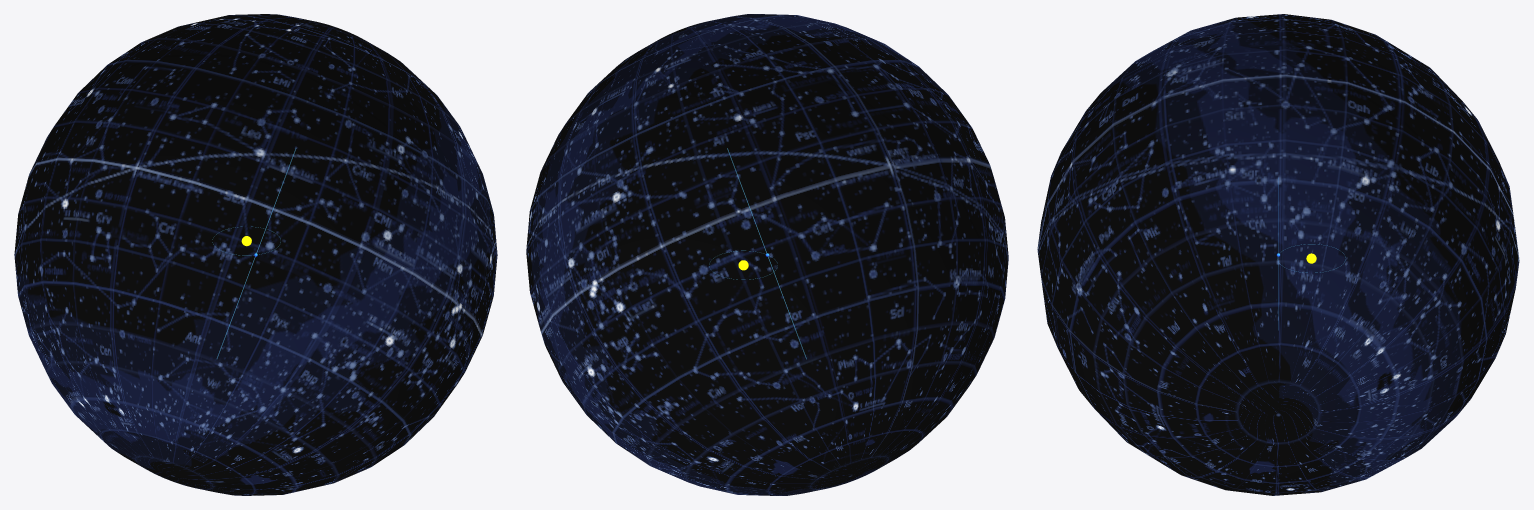
File: starts.glb
The picture shows the model from 3 angles, left to right: view 1: azimuth 30°, elevation 25°; view 2: azimuth 150°, elevation 25°; view 3: azimuth 270°, elevation 25°; orthographic projection.
Visible parts, largest first — view 1: Sphere.001_4; view 2: Sphere.001_4; view 3: Sphere.001_4.
Boxes of the visible parts, left/top/right/bottom form: Sphere.001_4: left=14, top=14, right=497, bottom=495; Sphere.001_4: left=526, top=14, right=1008, bottom=495; Sphere.001_4: left=1037, top=14, right=1519, bottom=495.
Bounding box in the file's own units: 3.1 × 3.1 × 3.11.
4 materials, 1 textured.
